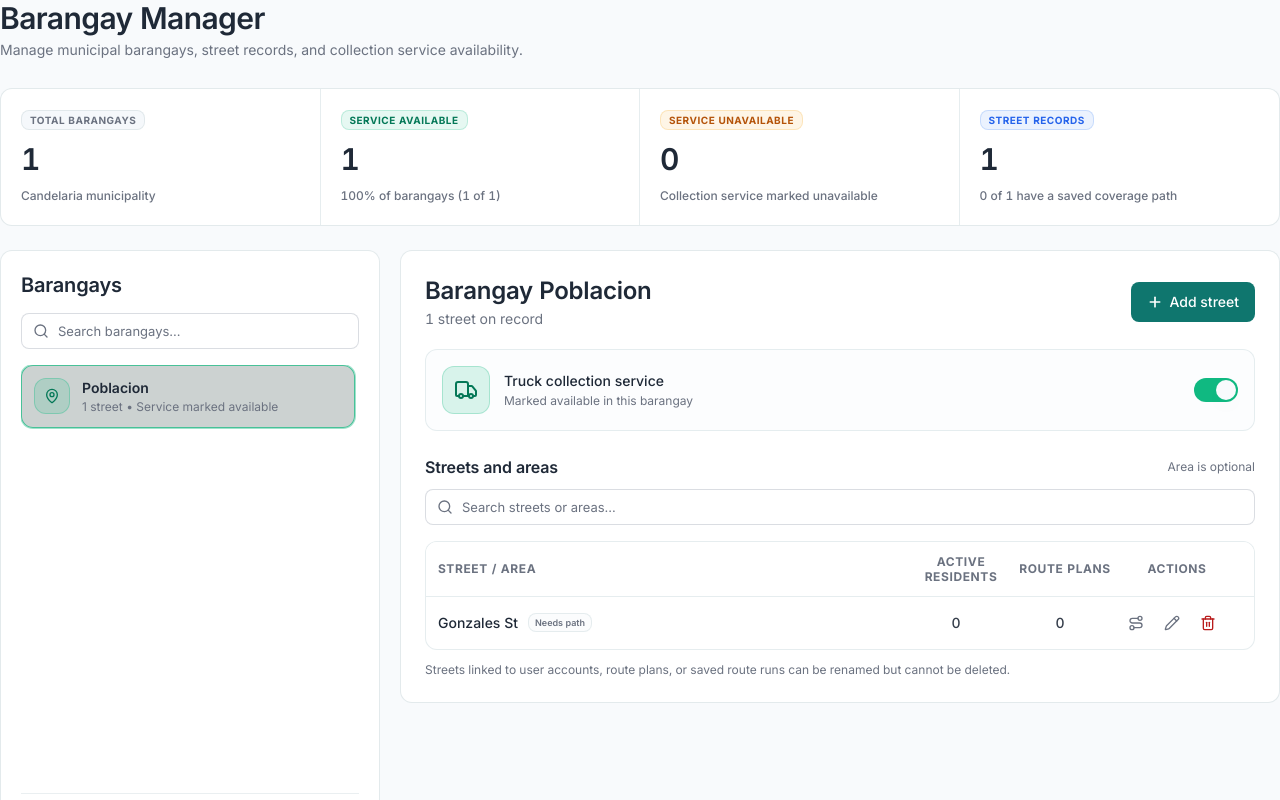
Test: street editor unsaved changes › blocks duplicate street and area combinations before saving
Click the button "Add street" at (1193, 302), box [1132,282,1255,322]
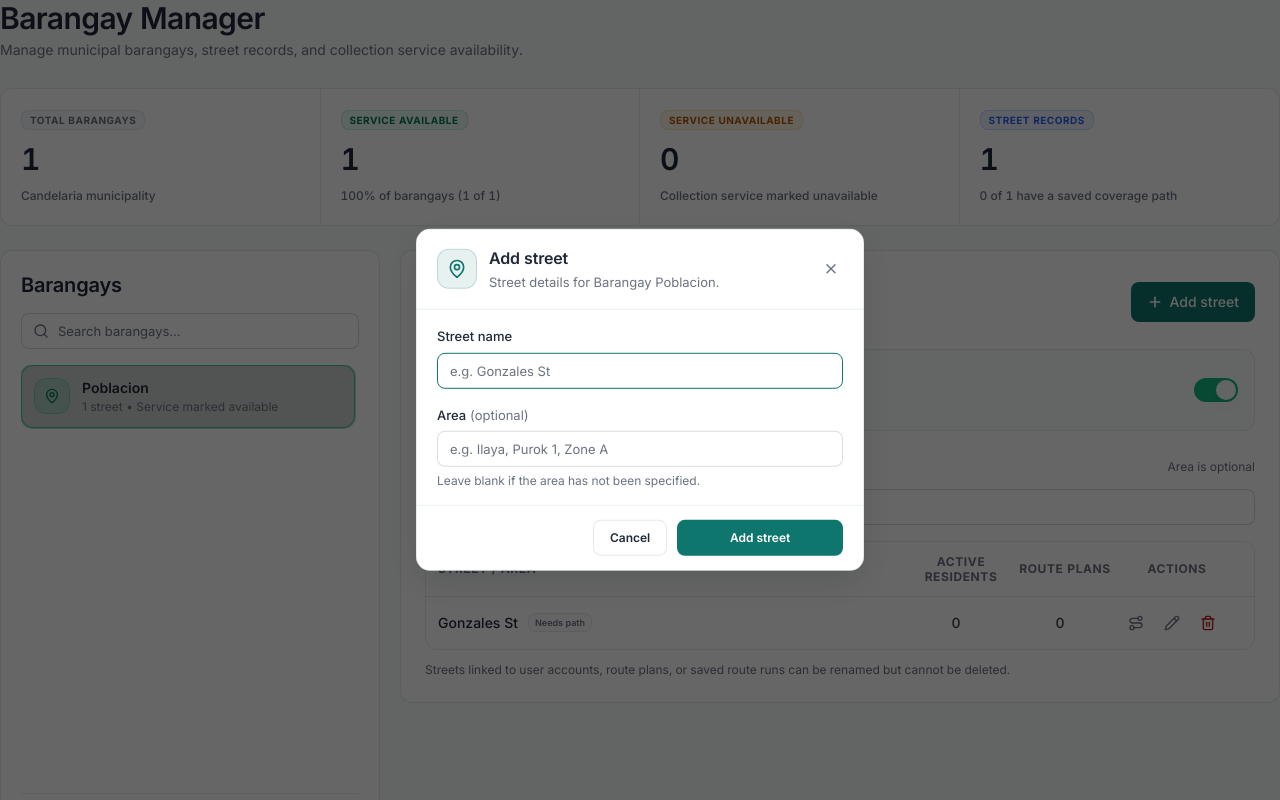
Type "  gonzales st  " into the field with id "barangay-street-name" at (640, 370), box [437,352,843,388]
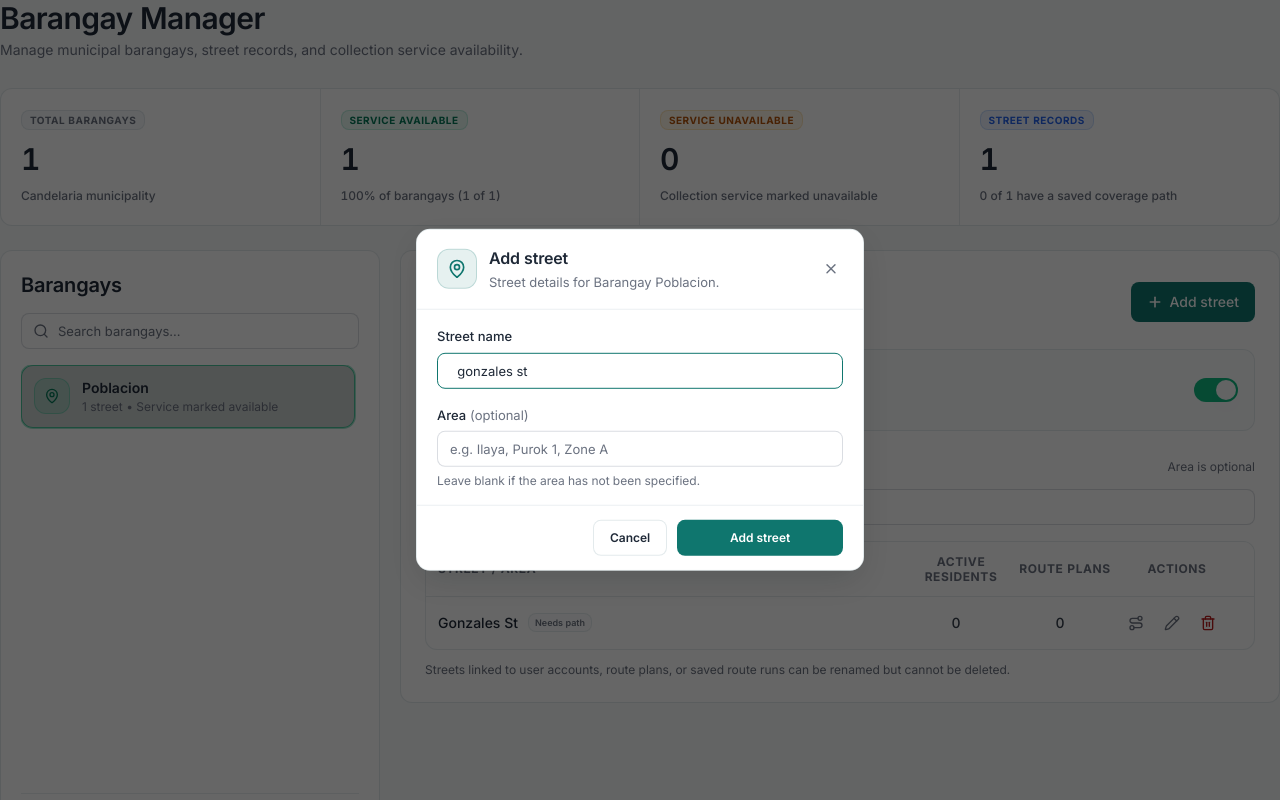
Submit the form, box [437,326,843,489]
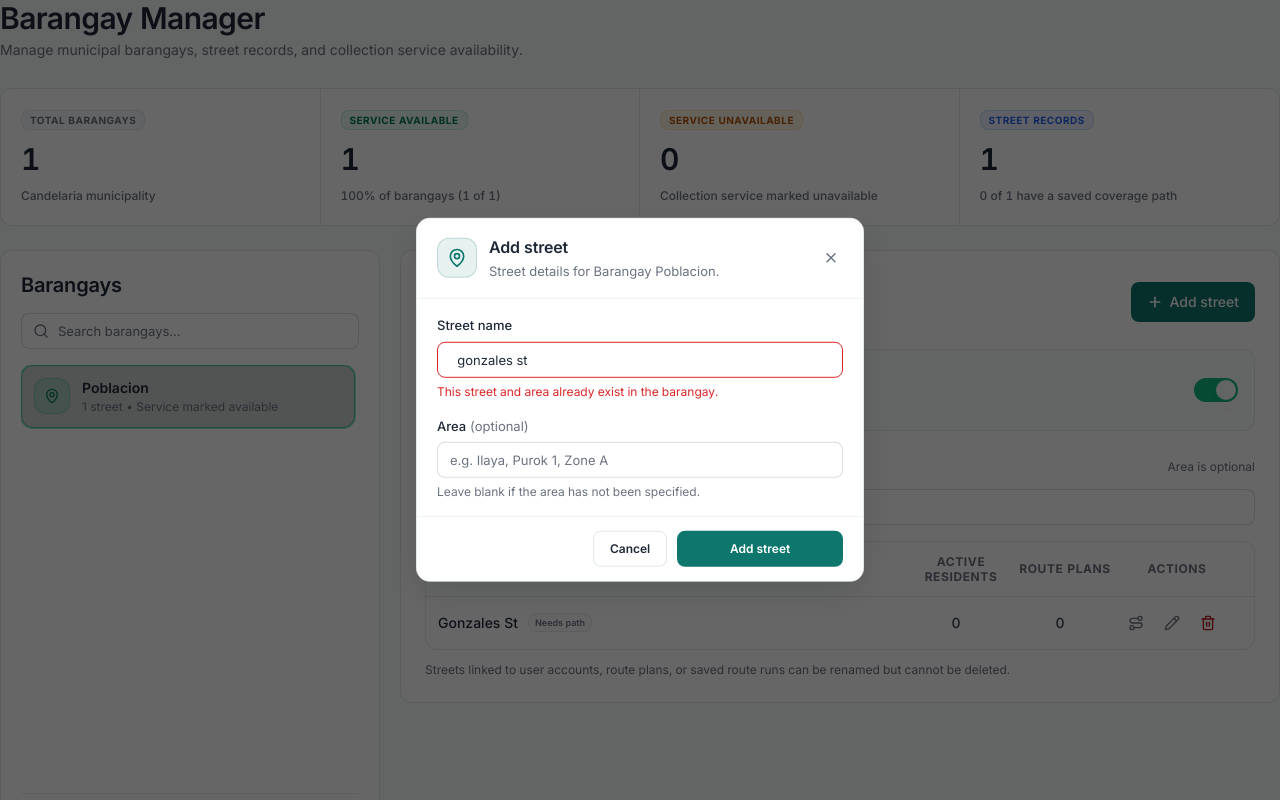
Expected: the text with id "barangay-street-name-error" shows "already exist", [437,383,718,398]
